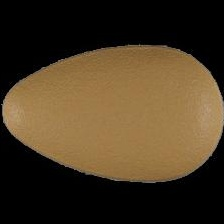0002-4463: (0, 0, 224, 224)
